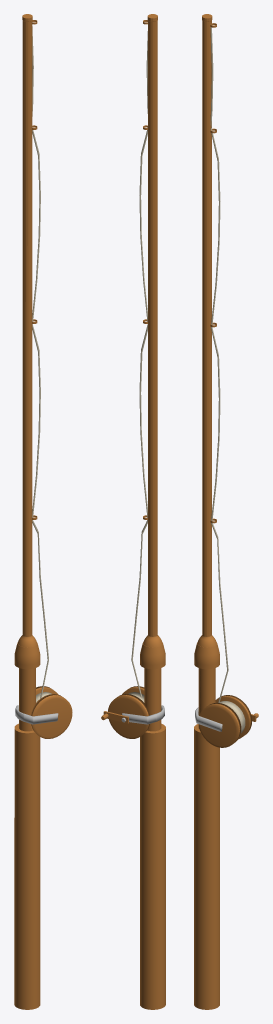
The model's file is fishingrod.fbx.
3 views of the same model, side by side, from view 1: azimuth 30°, elevation 25°; view 2: azimuth 150°, elevation 25°; view 3: azimuth 330°, elevation 25° (orthographic).
Visible parts, largest first — view 1: Cylinder002, Cylinder006, string1, Cylinder, Cylinder002.001, Cylinder005, Cylinder.004; view 2: Cylinder002, Cylinder006, string1, Cylinder, Cylinder002.001, Cylinder005, Cylinder.004, Cylinder.003; view 3: Cylinder002, Cylinder006, Cylinder, string1, Cylinder002.001, Cylinder005, Cylinder.004.
Boxes of the visible parts, x1,y1,x2,y2 form: Cylinder002: (14,723,40,1009); Cylinder006: (18,14,37,647); string1: (32,26,51,702); Cylinder: (30,686,72,738); Cylinder002.001: (19,668,35,731); Cylinder005: (14,642,40,669); Cylinder.004: (15,705,58,724); Cylinder002: (140,723,165,1009); Cylinder006: (143,14,162,647); string1: (128,31,147,702); Cylinder: (108,686,149,738); Cylinder002.001: (144,668,161,731); Cylinder005: (140,642,165,669); Cylinder.004: (121,705,164,724); Cylinder.003: (101,711,128,723); Cylinder002: (194,724,219,1009); Cylinder006: (197,14,216,647); Cylinder: (198,695,251,747); string1: (210,27,245,732); Cylinder002.001: (198,668,215,728); Cylinder005: (194,642,219,669); Cylinder.004: (195,707,222,731).
Size of the model in its own units: 33.92 by 640 by 26.74.
